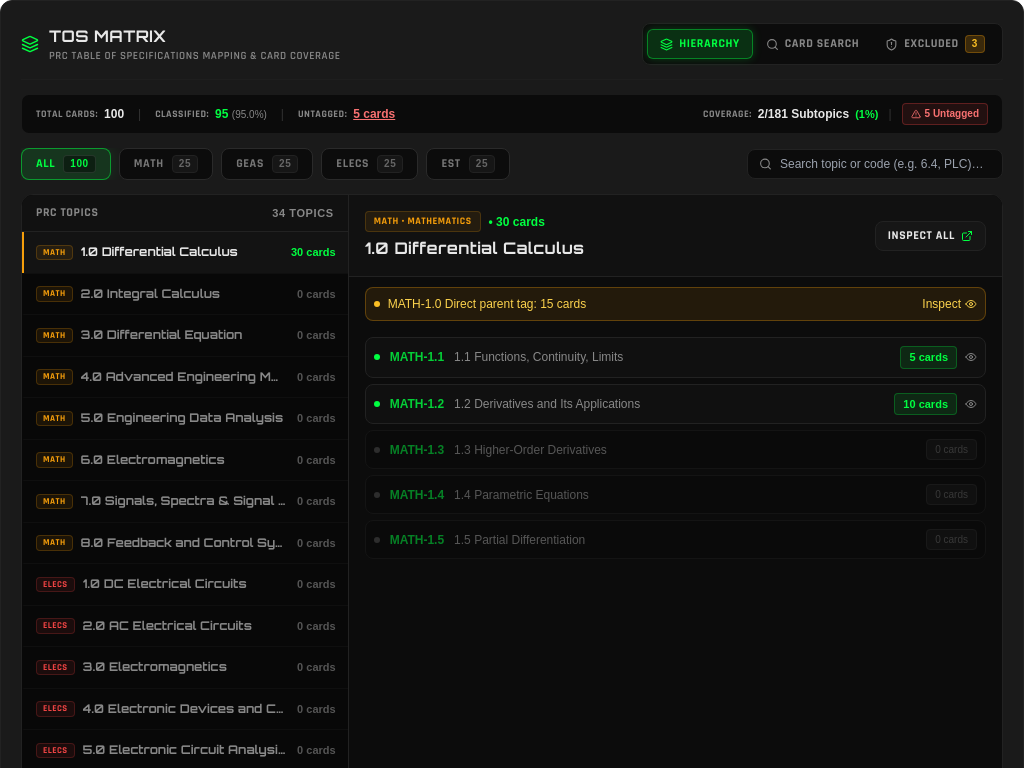
Test: Data Lab Demo Components › TosCoverageMatrixDemo › switches to Gauntlet Excluded view when clicking the Gauntlet Excluded subtab
What coordinates should you click on to do the following:
click the button "Excluded 3"
I would click on:
 (935, 44)
Its box is [872,28,998,60].
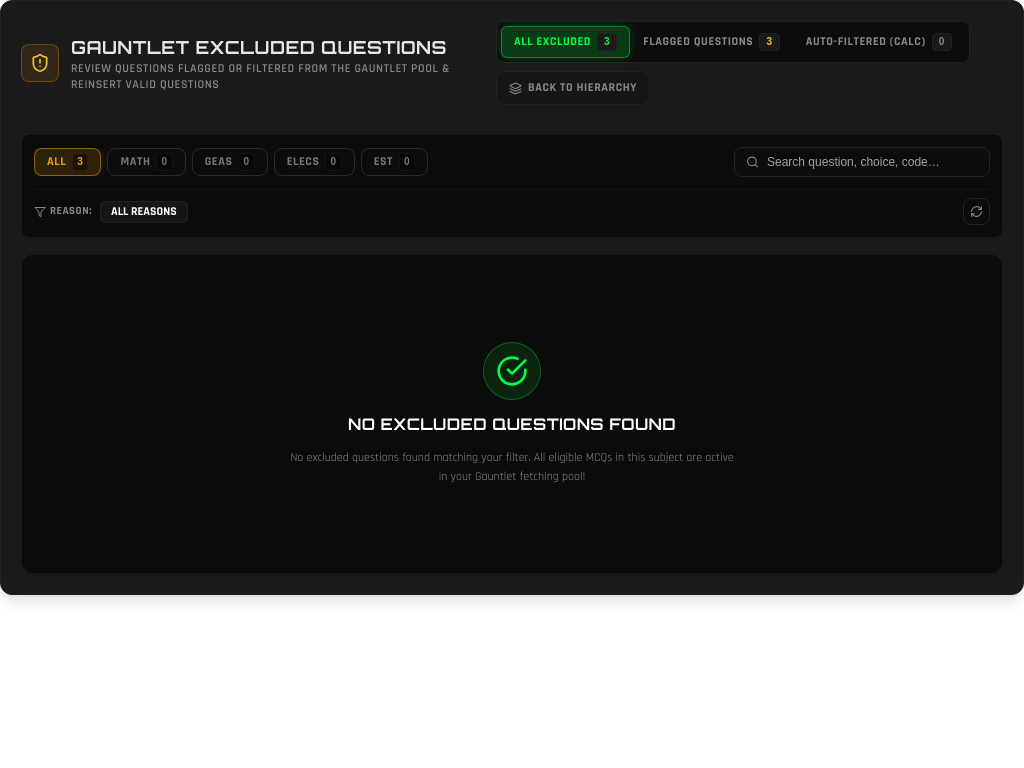
Now the element with test id "gauntlet-excluded-questions-demo" is shown
Now the text "Gauntlet Excluded Questions" is shown, box [71,33,484,61]
